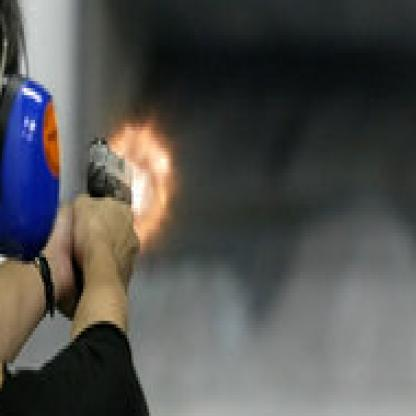gun: (81, 127, 147, 247)
